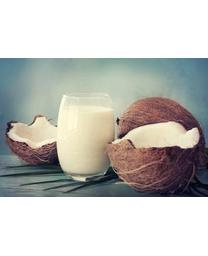coconut: (107, 125, 205, 196), (116, 96, 205, 171), (3, 108, 76, 169)
